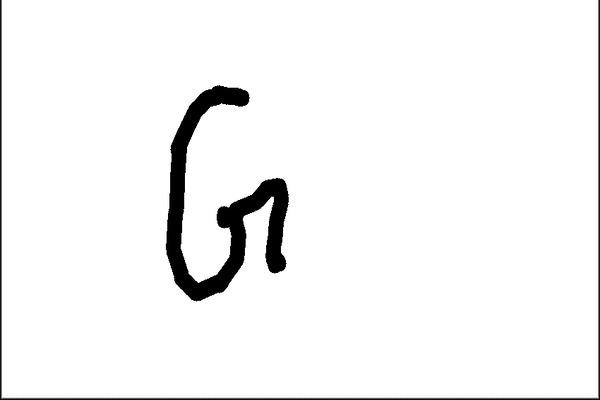G: (159, 81, 295, 306)
